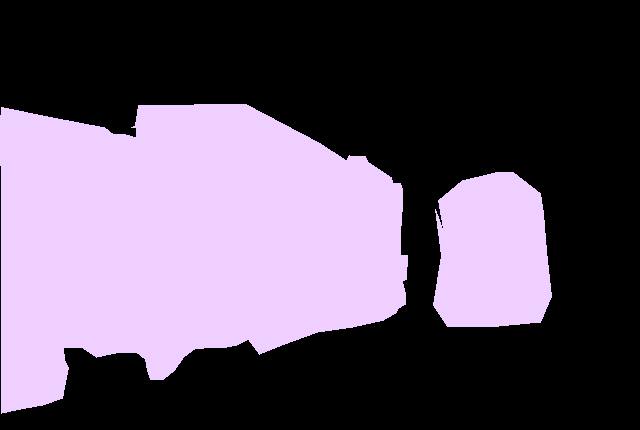Train: (0, 104, 407, 413), (433, 172, 551, 326)
